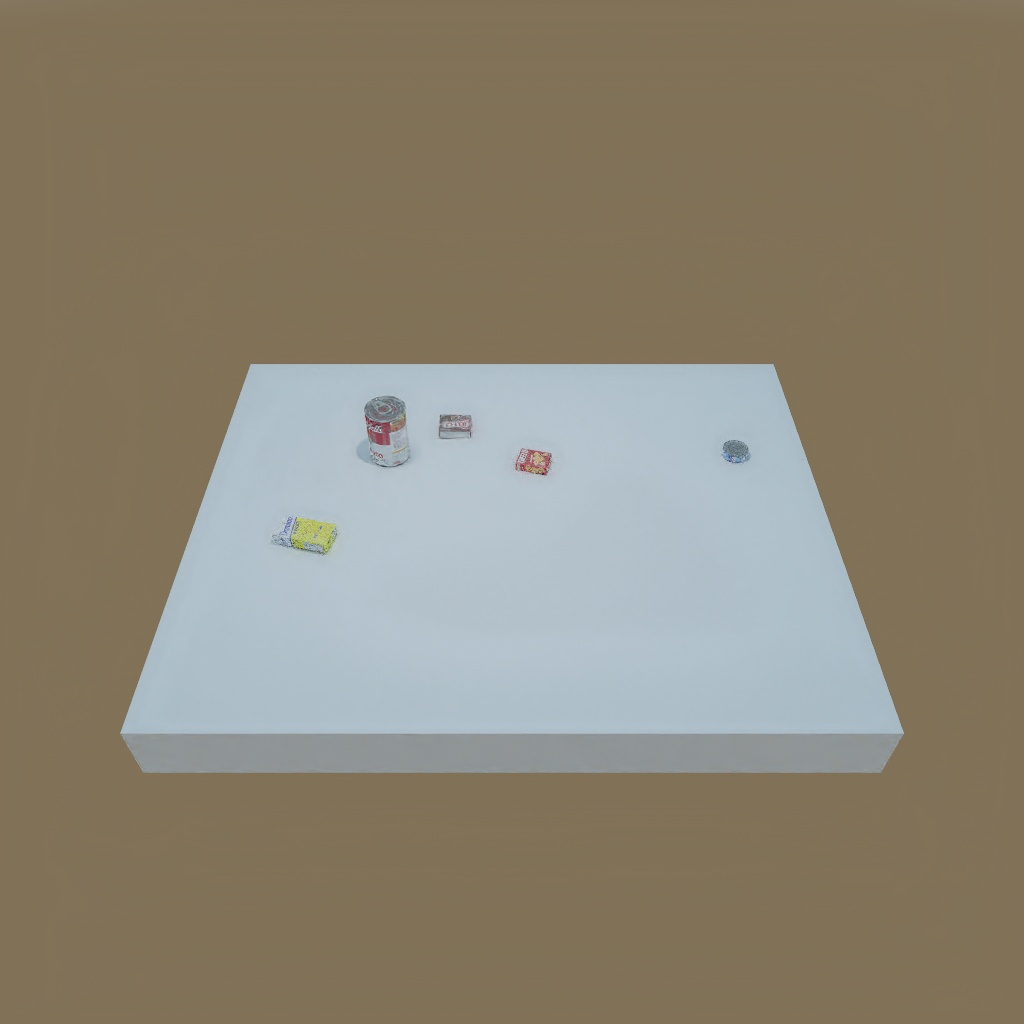pudding_box: (433, 409, 478, 441)
tomato_soup_can: (361, 392, 415, 465)
